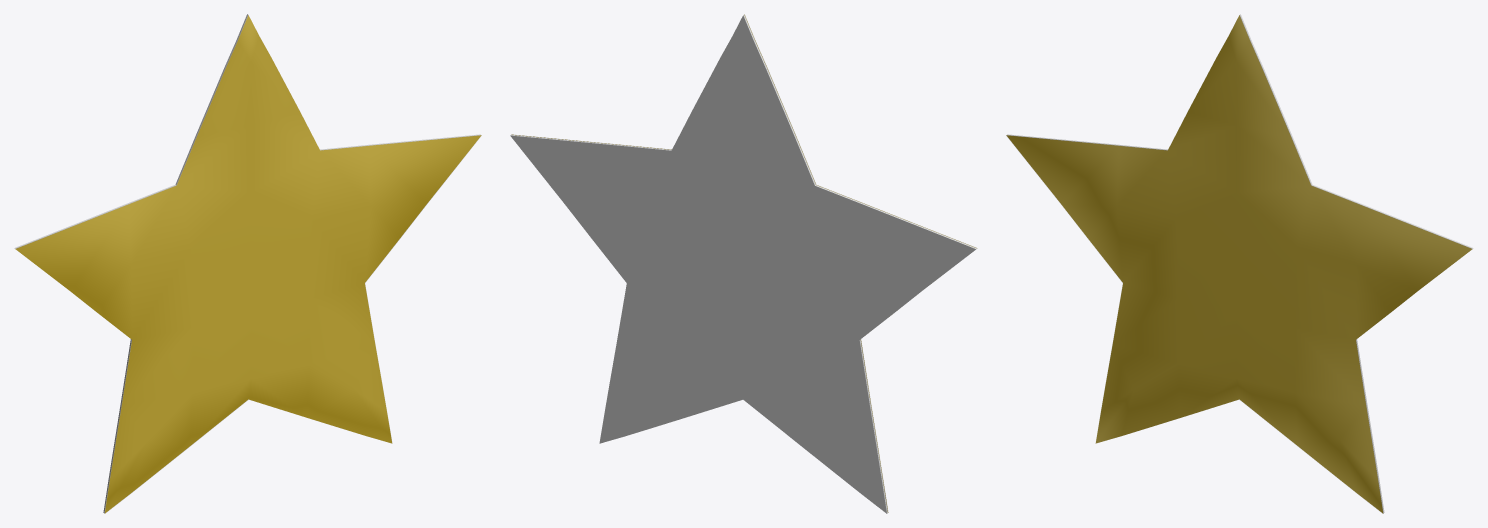
The model's file is hosi.glb.
3 views of the same model, side by side, from view 1: azimuth 30°, elevation 25°; view 2: azimuth 150°, elevation 25°; view 3: azimuth 330°, elevation 25° (orthographic).
Parts seen in each view (by area): view 1: Plane.001, Plane.002, Plane; view 2: Plane, Plane.001; view 3: Plane.001, Plane.002, Plane.
Boxes of the visible parts, <box> form: Plane.001: <box>15,15,481,513</box>; Plane.002: <box>16,15,481,513</box>; Plane: <box>14,14,480,513</box>; Plane: <box>510,14,976,513</box>; Plane.001: <box>512,14,976,512</box>; Plane.001: <box>1006,15,1472,513</box>; Plane.002: <box>1006,15,1471,513</box>; Plane: <box>1007,14,1473,513</box>.
Size of the model in its own units: 1.95 by 1.85 by 0.0288.
